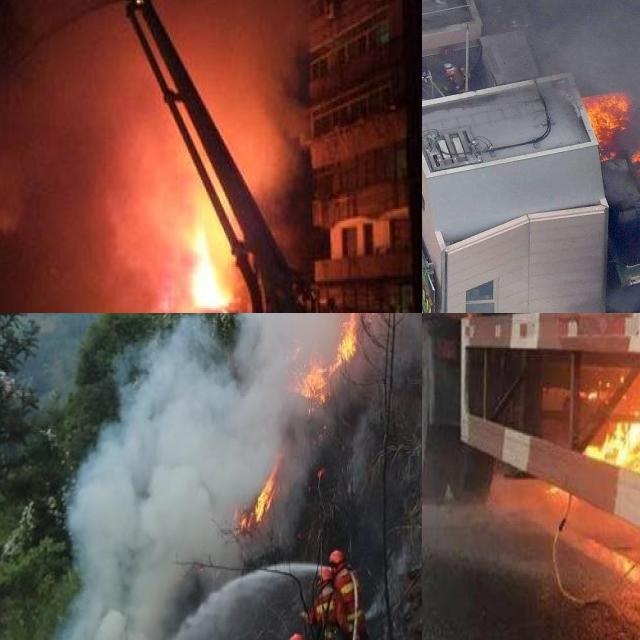fire: (574, 359, 640, 528), (299, 313, 422, 402), (579, 91, 640, 165), (232, 454, 285, 530), (185, 220, 228, 313)
smoke: (47, 313, 422, 640), (0, 0, 294, 313), (468, 0, 640, 131)
